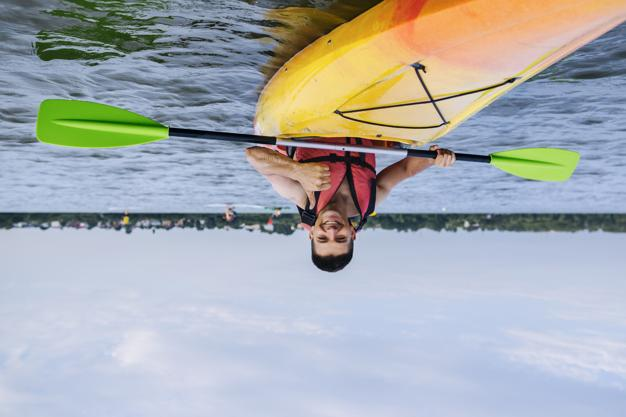thumbsdown: (307, 163, 331, 210)
